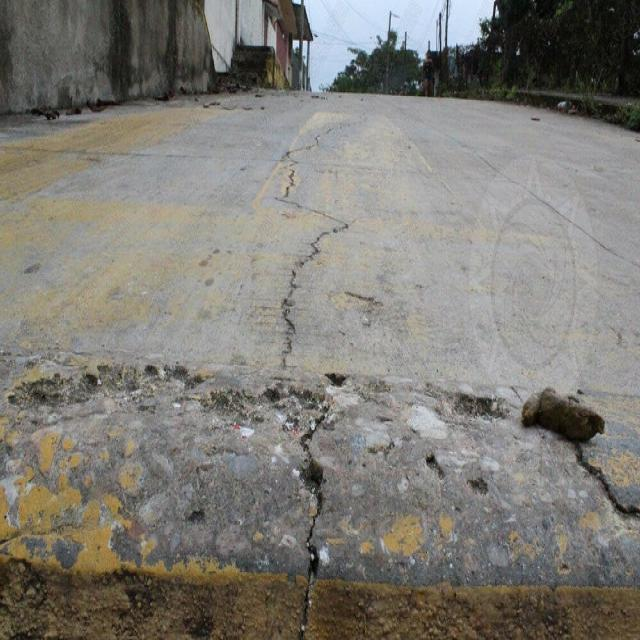Pothole: (171, 306, 486, 623)
